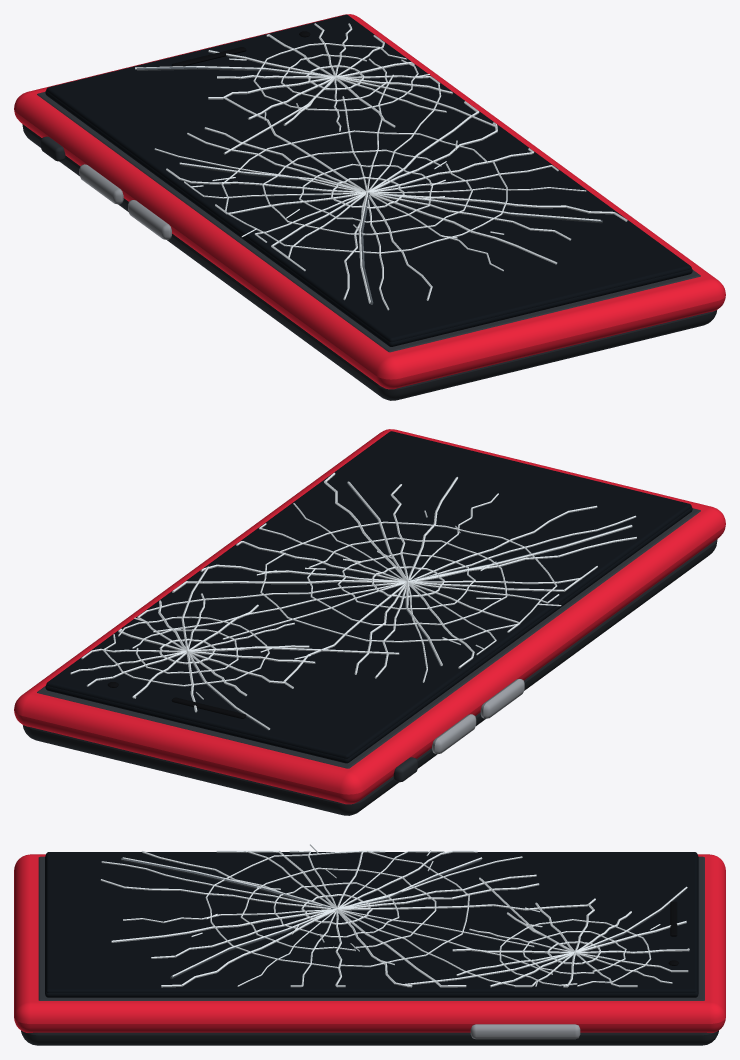
The model's file is BrokenPhone.fbx.
The picture shows the model from 3 angles, top to bottom: view 1: azimuth 30°, elevation 25°; view 2: azimuth 150°, elevation 25°; view 3: azimuth 270°, elevation 25°; orthographic projection. The views are drawn at different scales.
Visible parts, largest first — view 1: 05 - Display surface, 02 - Bright red outer protective case, 01 - Solid graphite phone body, 04 - Inner glass bezel, 03 - Black front display glass, 06 - Left volume up button, 07 - Left volume down button; view 2: 05 - Display surface, 02 - Bright red outer protective case, 01 - Solid graphite phone body, 04 - Inner glass bezel, 03 - Black front display glass, 06 - Left volume up button, 07 - Left volume down button; view 3: 05 - Display surface, 02 - Bright red outer protective case, 01 - Solid graphite phone body, 04 - Inner glass bezel, 03 - Black front display glass, 09 - Right power button.
Part boxes in pixels (x1,y1,x2,y2): 05 - Display surface: (46, 14, 691, 341); 02 - Bright red outer protective case: (14, 14, 725, 389); 01 - Solid graphite phone body: (22, 124, 716, 400); 04 - Inner glass bezel: (37, 91, 700, 352); 03 - Black front display glass: (45, 90, 692, 346); 06 - Left volume up button: (79, 164, 123, 204); 07 - Left volume down button: (128, 200, 171, 239); 05 - Display surface: (46, 431, 691, 758); 02 - Bright red outer protective case: (14, 429, 725, 804); 01 - Solid graphite phone body: (23, 539, 717, 815); 04 - Inner glass bezel: (37, 508, 700, 768); 03 - Black front display glass: (45, 507, 692, 763); 06 - Left volume up button: (432, 714, 476, 754); 07 - Left volume down button: (480, 679, 524, 718); 05 - Display surface: (46, 852, 697, 992); 02 - Bright red outer protective case: (14, 854, 725, 1032); 01 - Solid graphite phone body: (21, 1030, 718, 1045); 04 - Inner glass bezel: (38, 856, 704, 1000); 03 - Black front display glass: (45, 855, 698, 997); 09 - Right power button: (470, 1024, 580, 1039).
Bounding box in the file's own units: 0.216 × 0.0341 × 0.389.
